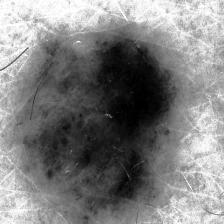Benign Marking or Mole: (23, 37, 176, 216)
